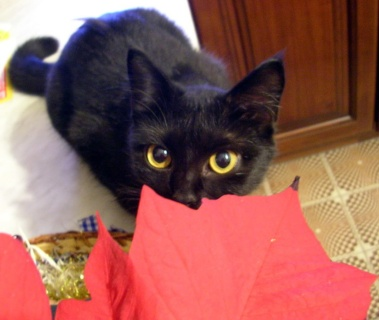Cat: (6, 3, 288, 218)
